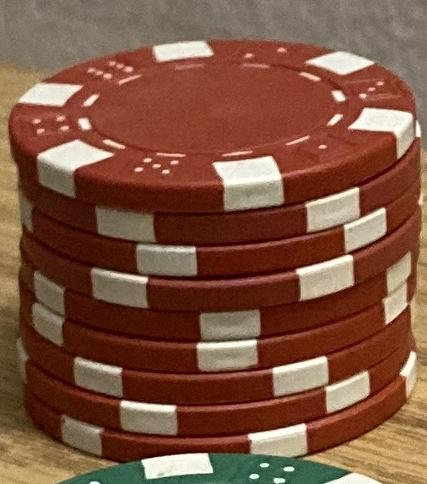Chip: (1, 1, 427, 484)
